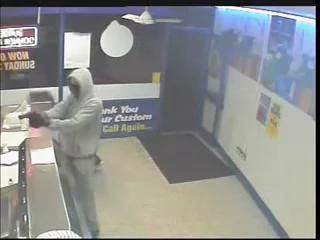criminal: (17, 67, 104, 238)
weapon: (17, 110, 42, 122)
